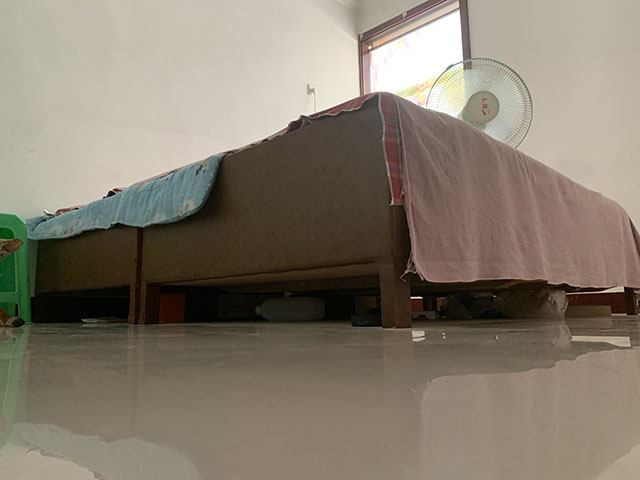bed: (24, 91, 640, 331)
stool: (1, 213, 35, 329)
